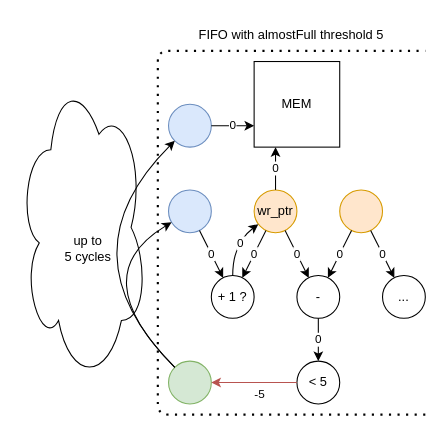
The diagram is 446 pixels wide and 434 high, and some of its shapes have lost their labels. The centre of each missing label's shape, as x and y in pixels:
almost full: [189,382]
data: [189,125]
push: [189,211]
rd_ptr: [361,211]
